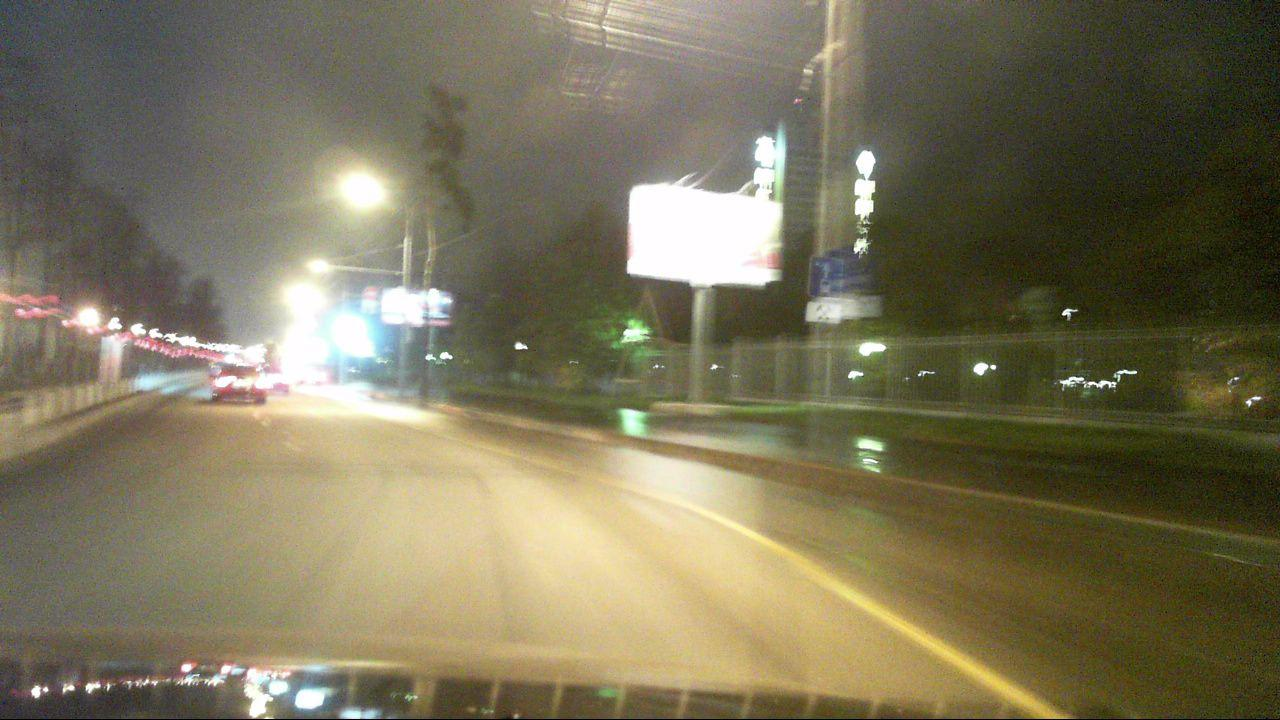5_14_1: (809, 254, 843, 298)
8_5_2: (804, 303, 845, 322)
